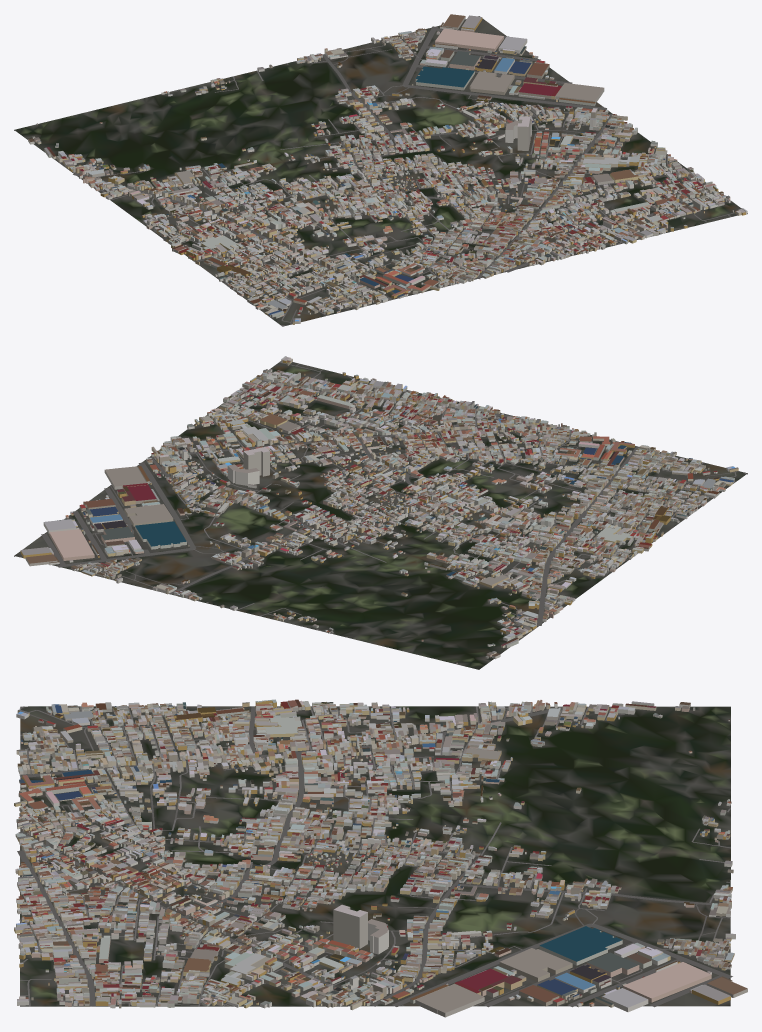
3 renders of one model, top to bottom at view 1: azimuth 30°, elevation 25°; view 2: azimuth 150°, elevation 25°; view 3: azimuth 270°, elevation 25°, orthographic. The views are drawn at different scales.
Parts seen in each view (by area): view 1: buildings, ground, roads; view 2: buildings, ground, roads; view 3: buildings, ground, roads.
Boxes of the visible parts, x1,y1,x2,y2 form: buildings: (28, 14, 747, 324); ground: (14, 16, 747, 326); roads: (51, 26, 734, 326); buildings: (20, 356, 738, 663); ground: (14, 361, 747, 669); roads: (41, 362, 746, 647); buildings: (14, 699, 747, 1017); ground: (20, 706, 730, 1006); roads: (17, 706, 732, 1007).
Size of the model in its own units: 1468 by 72.62 by 1446.
